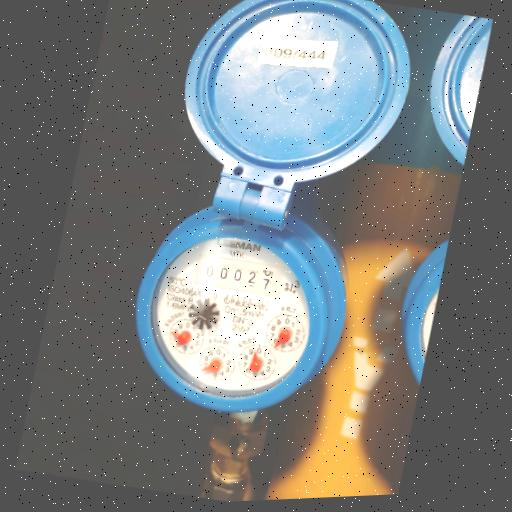0: (230, 265, 245, 287), (217, 263, 231, 285), (203, 262, 216, 281)
2: (245, 268, 260, 290)
7: (257, 269, 274, 293)
border_water_meter_number: (192, 249, 286, 302)
